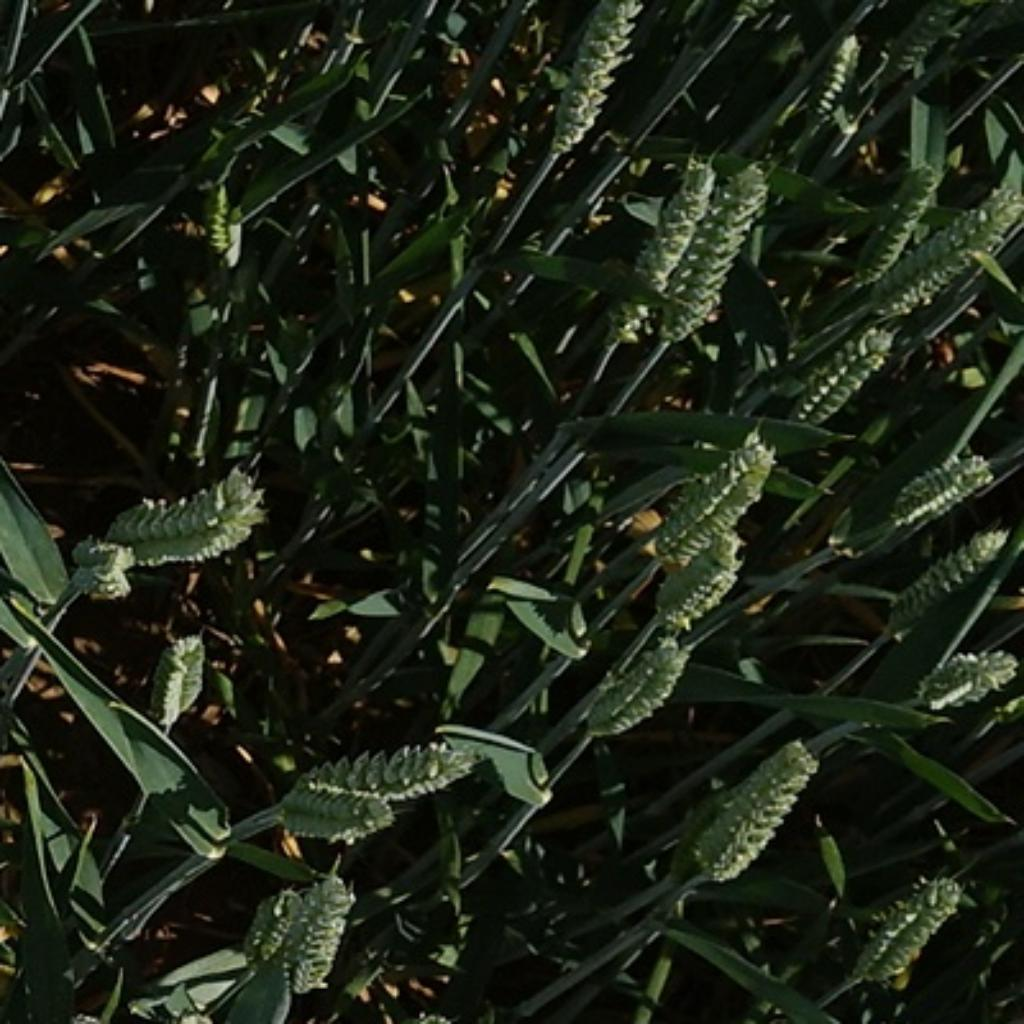0-0: (673, 719, 829, 893), (601, 158, 742, 340), (92, 455, 281, 578), (668, 138, 775, 350), (837, 852, 977, 995), (642, 424, 783, 565), (872, 184, 1018, 320), (296, 727, 499, 821), (535, 2, 640, 171), (573, 614, 701, 739), (785, 309, 901, 435), (872, 529, 1013, 629), (276, 860, 366, 1006), (849, 156, 936, 286), (652, 529, 750, 634), (883, 440, 995, 524), (908, 634, 1024, 709), (261, 785, 407, 842), (143, 624, 215, 727), (225, 880, 312, 965), (888, 2, 970, 81), (808, 33, 867, 130), (75, 533, 141, 602), (200, 182, 248, 272)
